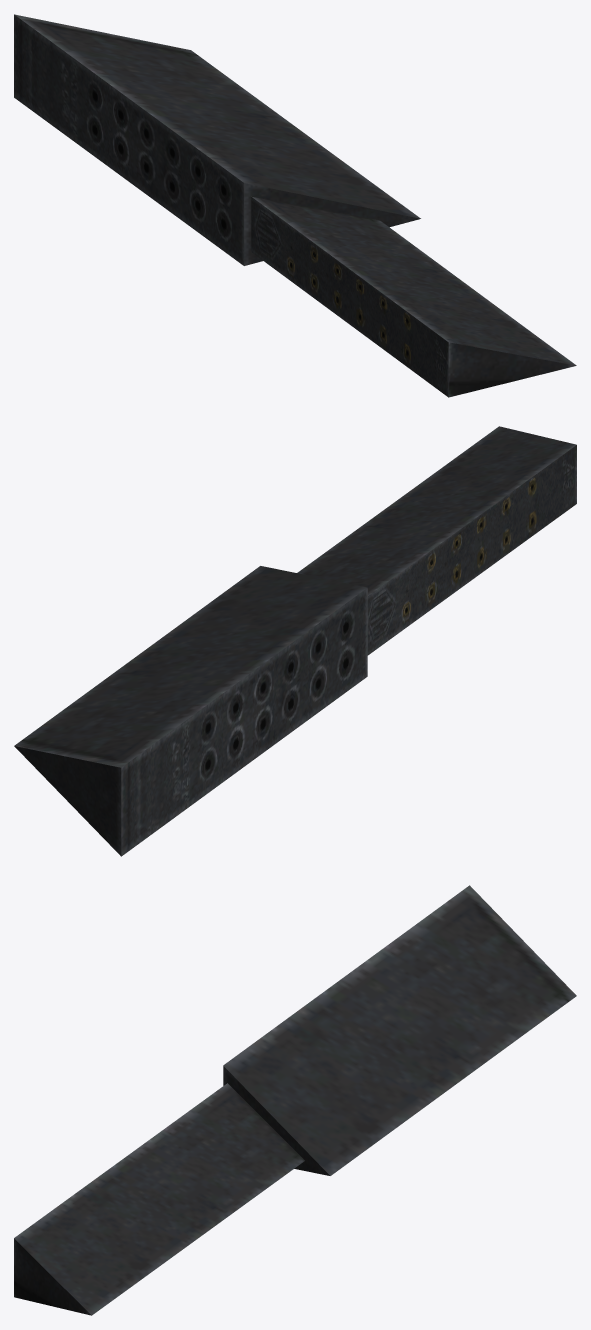
The model's file is t6_attach_mag_vector_world_LOD2.obj.
3 views of the same model, one above another, from view 1: azimuth 30°, elevation 25°; view 2: azimuth 150°, elevation 25°; view 3: azimuth 330°, elevation 25° (orthographic). The views are drawn at different scales.
Parts seen in each view (by area): view 1: mtl_t6_wpn_smg_vector_camo4; view 2: mtl_t6_wpn_smg_vector_camo4; view 3: mtl_t6_wpn_smg_vector_camo4.
Part boxes in pixels (x1,y1,x2,y2): mtl_t6_wpn_smg_vector_camo4: [14, 14, 576, 397]; mtl_t6_wpn_smg_vector_camo4: [14, 426, 576, 856]; mtl_t6_wpn_smg_vector_camo4: [14, 885, 576, 1315].
Bounding box in the file's own units: 3.81 × 2.18 × 21.75.
